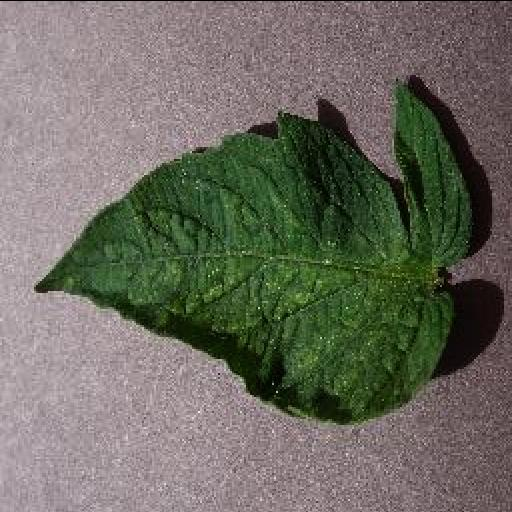disease_tomato: (28, 77, 476, 427)
